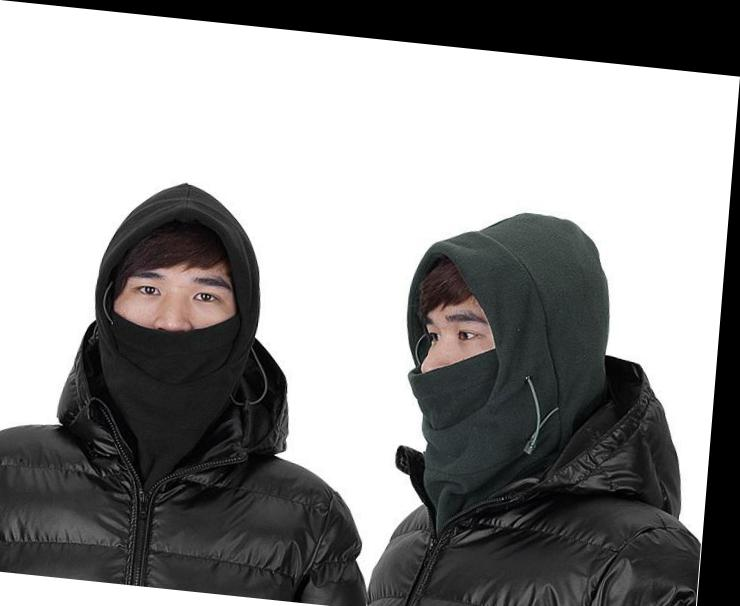WRONG: (116, 256, 260, 403), (411, 297, 535, 424)
